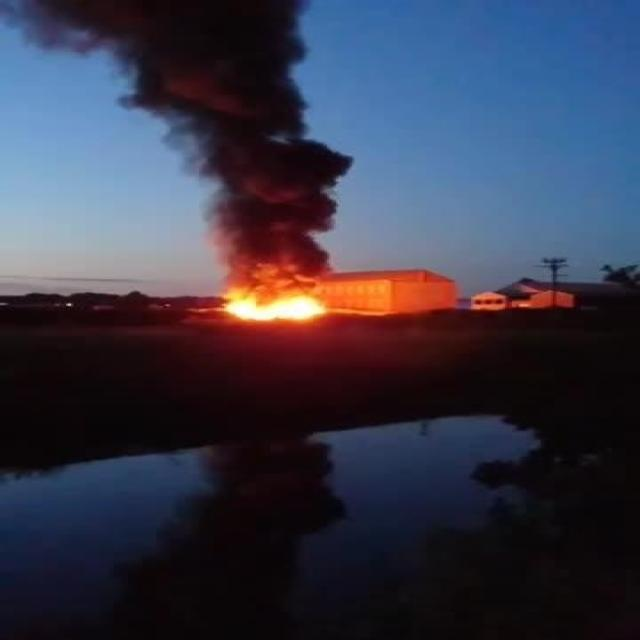Fire: (216, 277, 334, 326)
Smoke: (108, 0, 343, 255)
